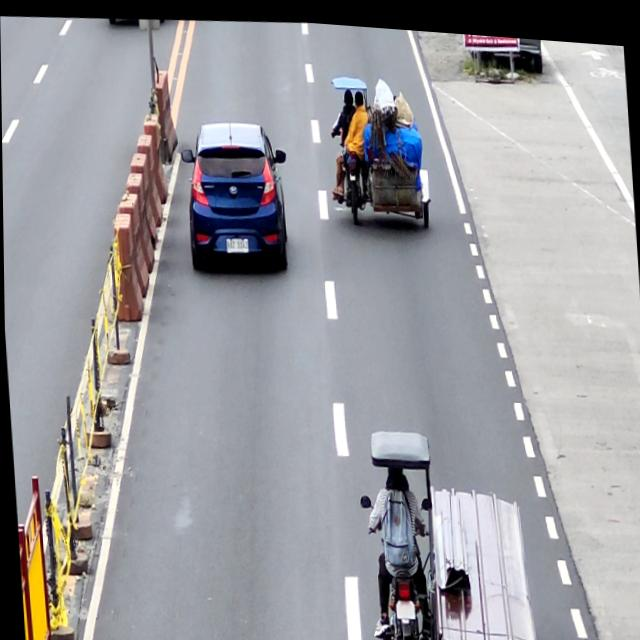Car: (179, 113, 294, 275)
License-Plate: (224, 234, 250, 252), (394, 592, 414, 615)
Tricycle: (354, 414, 536, 640), (330, 66, 433, 228)
